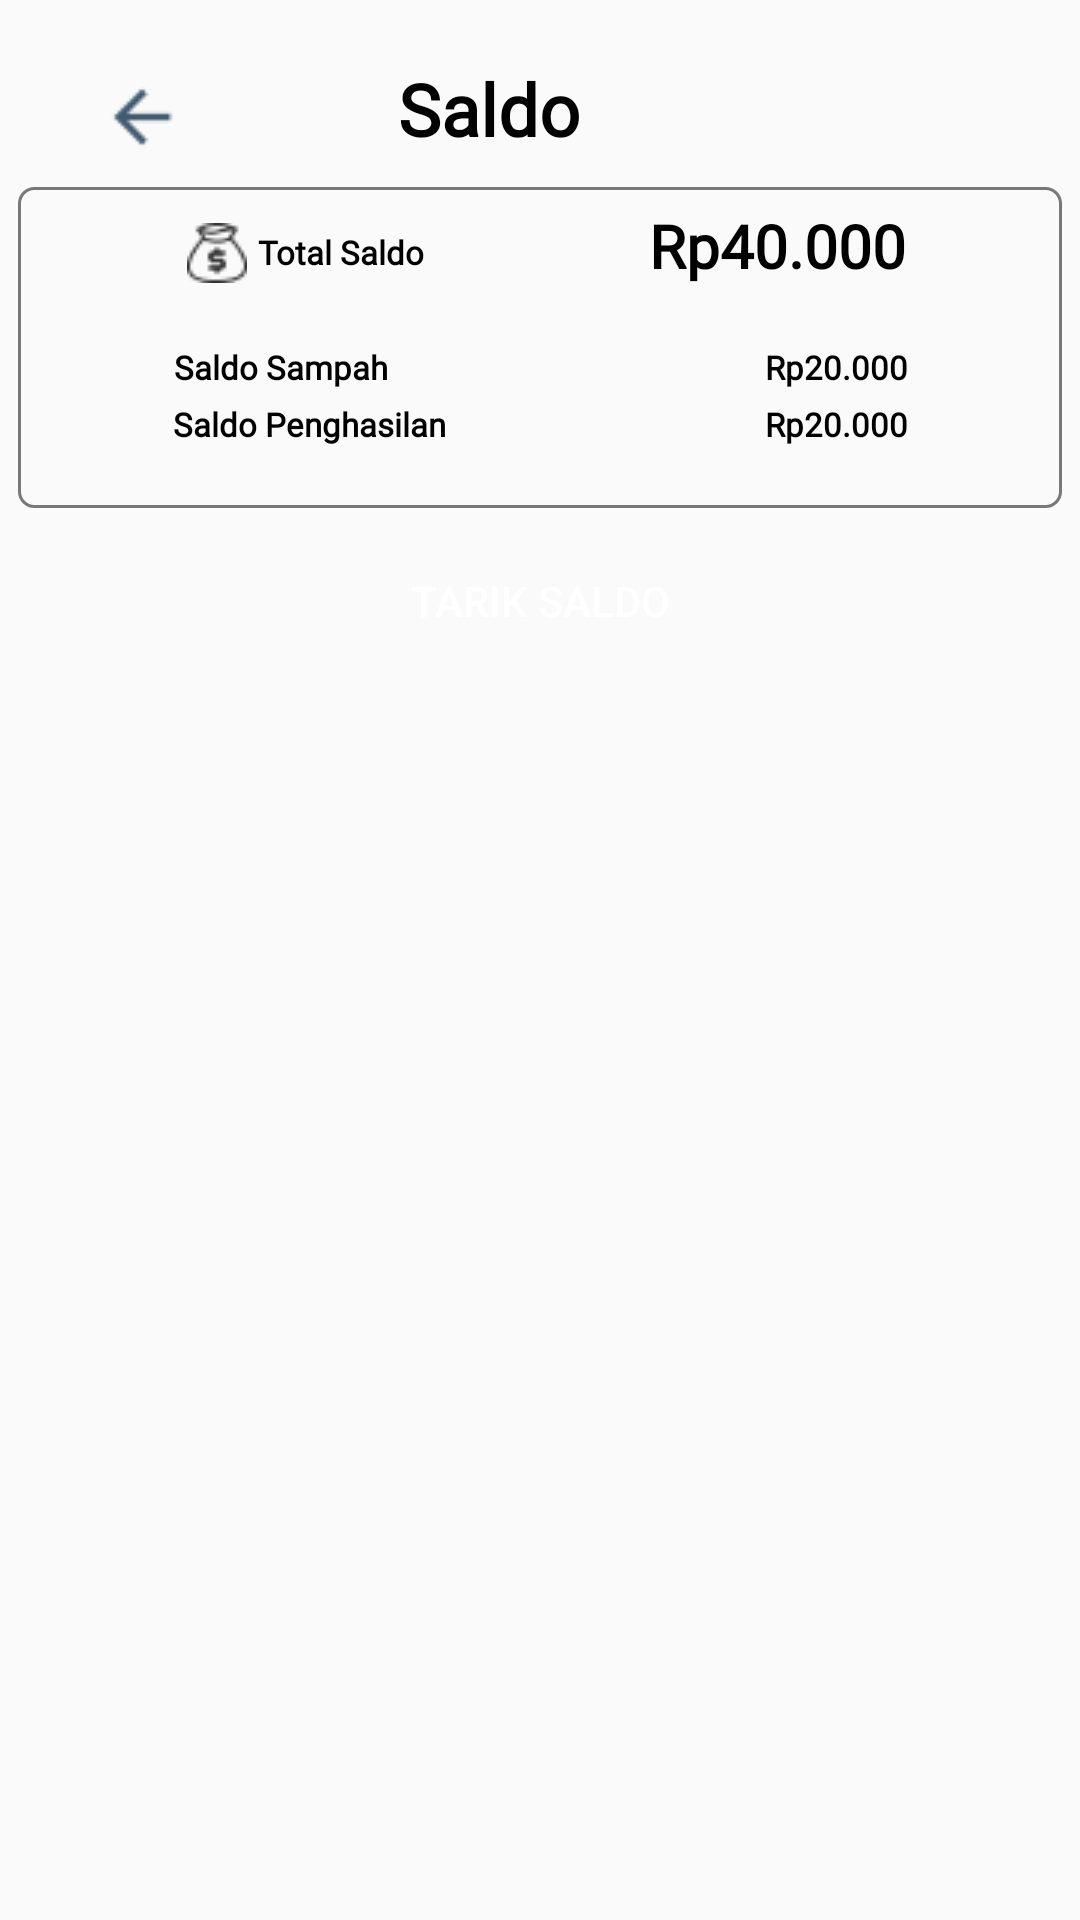

Screen size 1080px×1920px. Icon name, then its center in pixels as [x,y]:
iconback: [143,117]
iconsaldo: [217,253]
